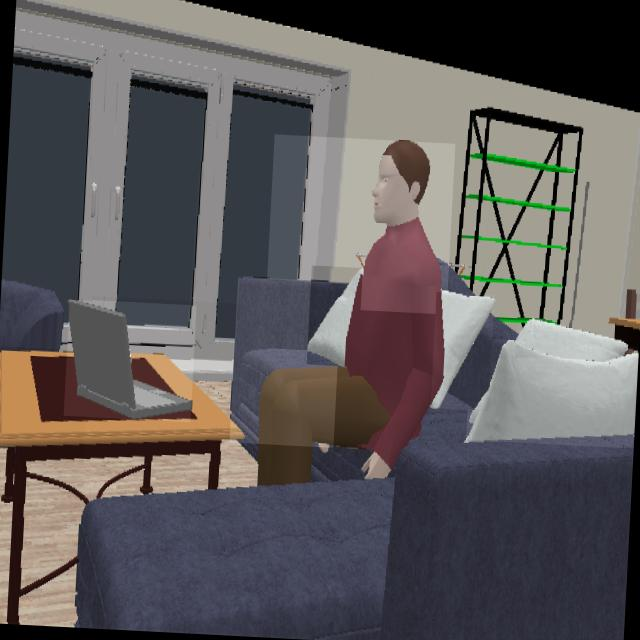laptop: (70, 300, 191, 420)
person: (259, 141, 445, 485)
pillow: (468, 341, 638, 442), (431, 292, 494, 408), (308, 270, 362, 366), (516, 320, 627, 362)
sofa: (76, 318, 634, 640), (232, 281, 341, 444)
table: (0, 354, 242, 622)
